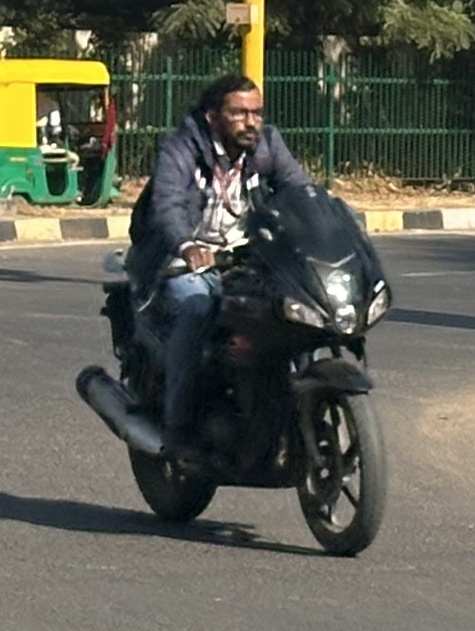BikeWithRider: (67, 65, 406, 563)
NoHelmet: (198, 68, 275, 154)
